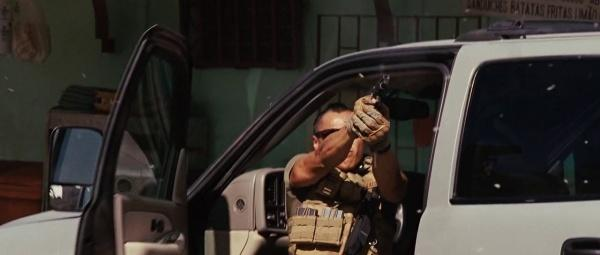Gun: (369, 73, 393, 107)
